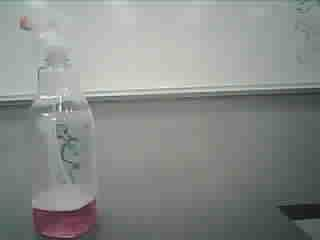hazard: (15, 14, 101, 240)
